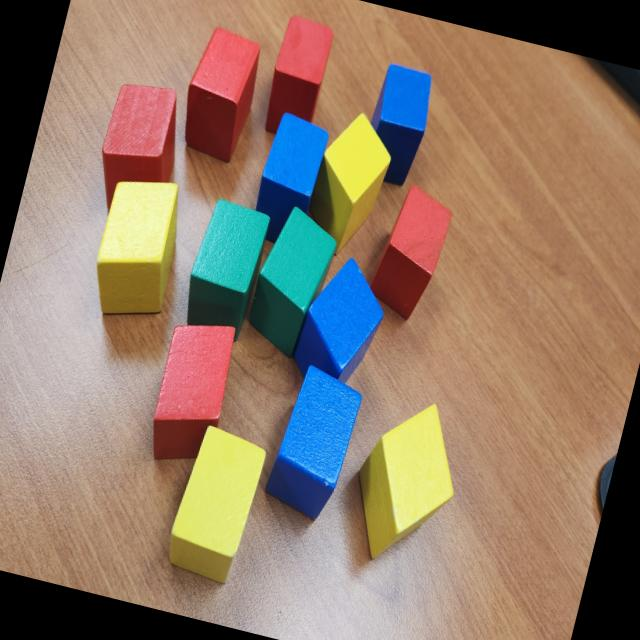blue: (258, 360, 366, 524), (285, 248, 396, 397), (245, 110, 333, 252), (355, 61, 439, 190)
green: (238, 204, 342, 362), (176, 195, 271, 344)
red: (141, 311, 242, 474), (85, 76, 192, 226), (172, 21, 270, 168), (360, 180, 458, 326), (258, 13, 337, 143)
yellow: (339, 390, 473, 572), (160, 422, 268, 588), (82, 168, 194, 328), (301, 104, 400, 254)
